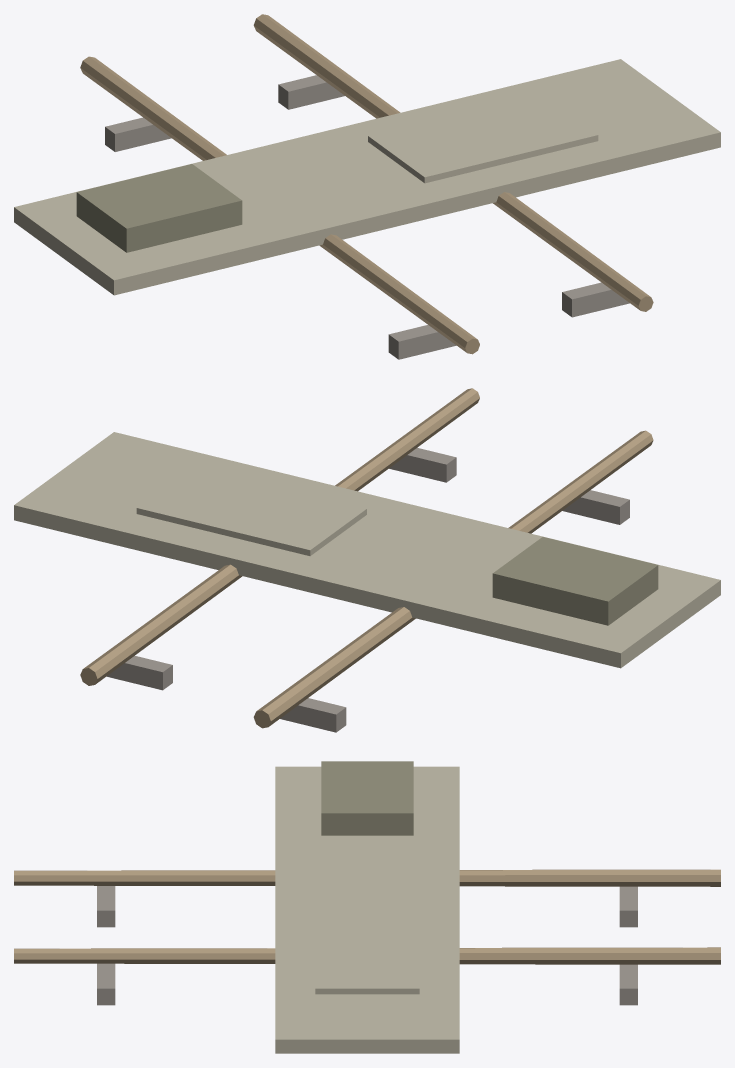
File: trench-line-1917-stretcher-1917-7bd91ffe__24116.glb
The picture shows the model from 3 angles, top to bottom: view 1: azimuth 30°, elevation 25°; view 2: azimuth 150°, elevation 25°; view 3: azimuth 270°, elevation 25°; orthographic projection. The views are drawn at different scales.
Visible parts, largest first — view 1: stretcher-1917; view 2: stretcher-1917; view 3: stretcher-1917.
Boxes of the visible parts, x1,y1,x2,y2 form: stretcher-1917: [14, 14, 720, 359]; stretcher-1917: [14, 388, 720, 732]; stretcher-1917: [14, 761, 720, 1053].
Bounding box in the file's own units: 2.1 × 0.26 × 2.3.
